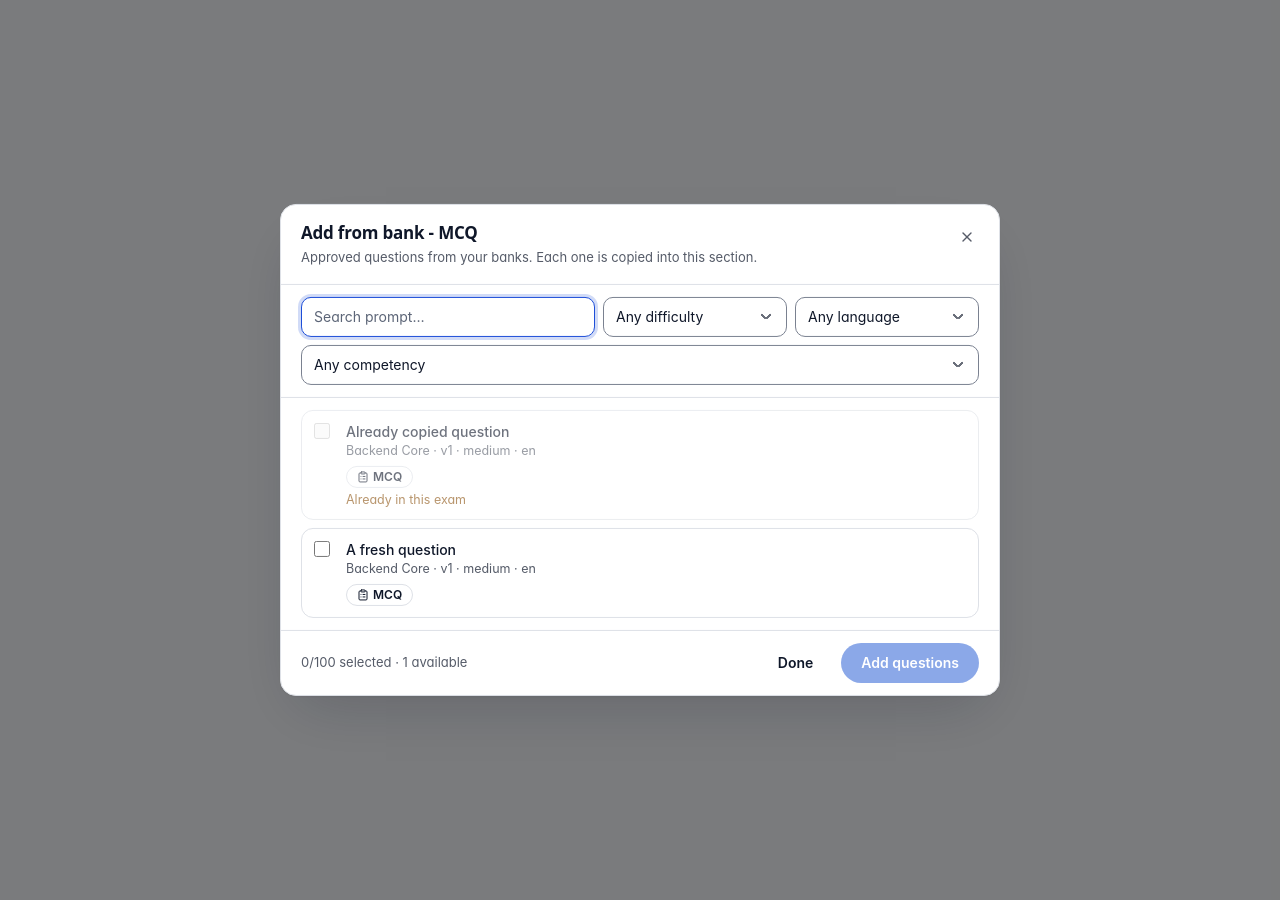
Scenario: BankQuestionPicker - rows already in the exam › disables the checkbox and shows the reason, and does not count it as available
The image size is (1280, 900).
Check: the text "Already copied question" is shown, box [346,423,509,440]
Check: the checkbox named "Select Already copied question" is disabled, box [314,423,330,439]
Click the checkbox named "Select A fresh question": (322, 549) [314,541,330,557]
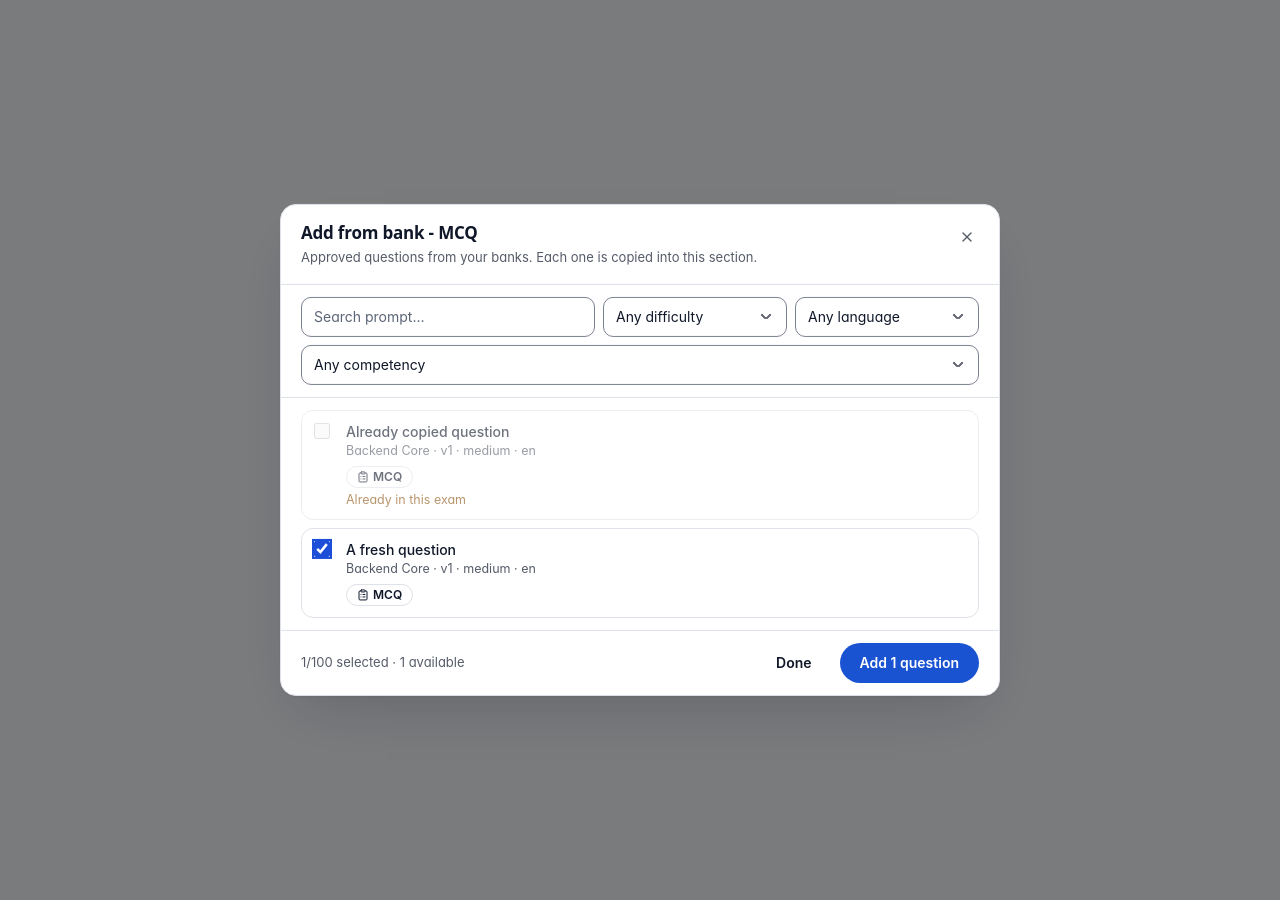
Check: the text "1/100 selected · 1 available" is shown, box [301,653,464,673]
